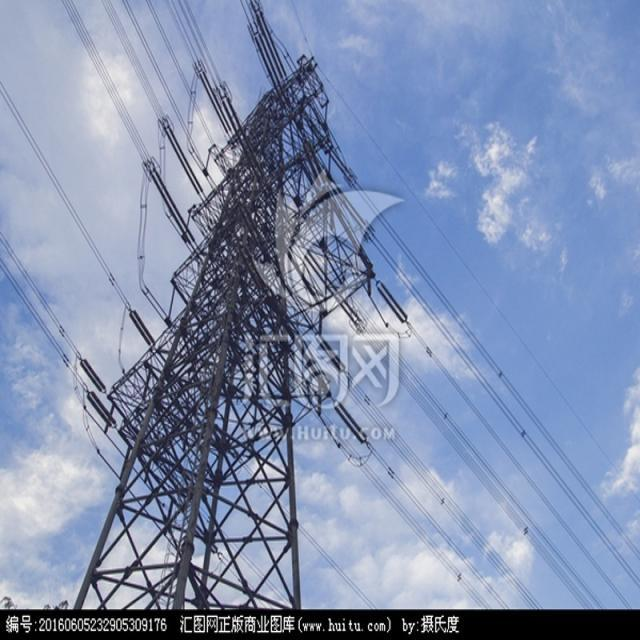non-critical vegetation: (74, 57, 364, 607)
